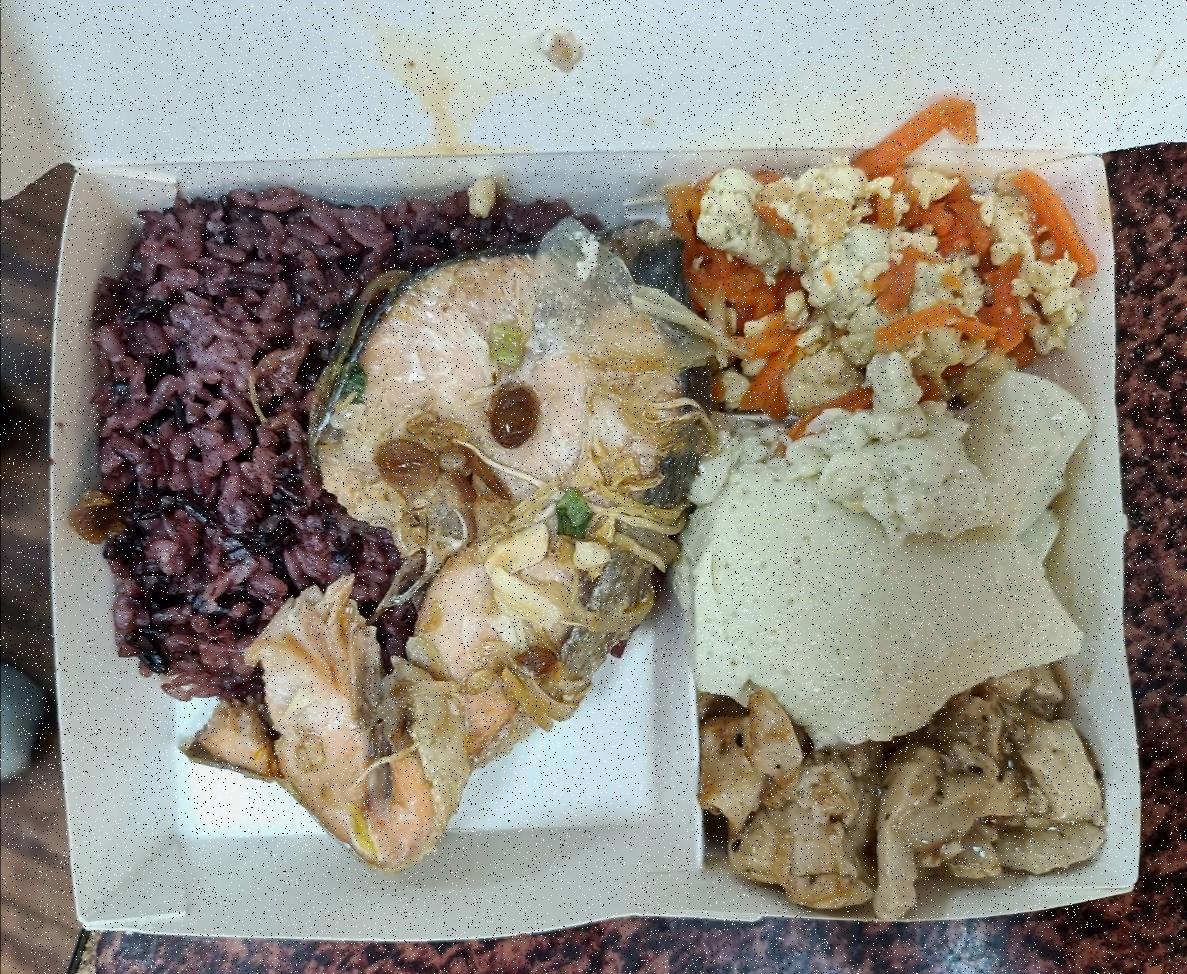box: (21, 146, 1162, 944)
purple rice: (113, 198, 643, 727)
salmon: (313, 237, 692, 848)
side dish: (698, 428, 1103, 717), (688, 173, 1080, 411), (706, 680, 1118, 903)
